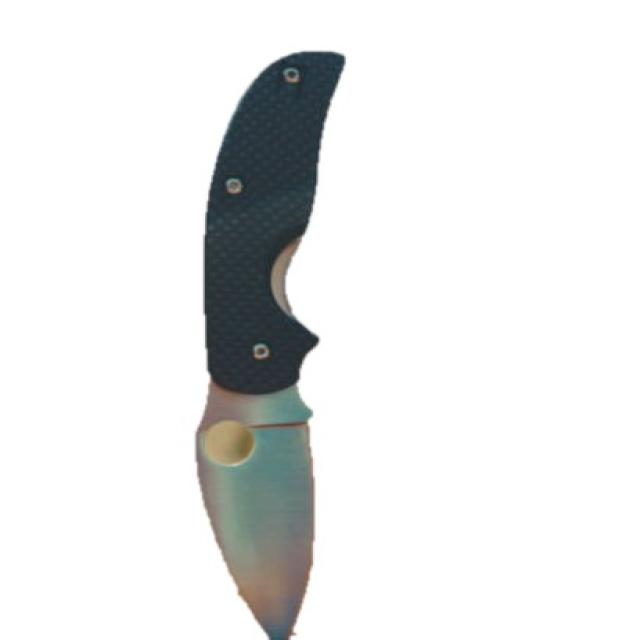knife: (192, 42, 357, 640)
